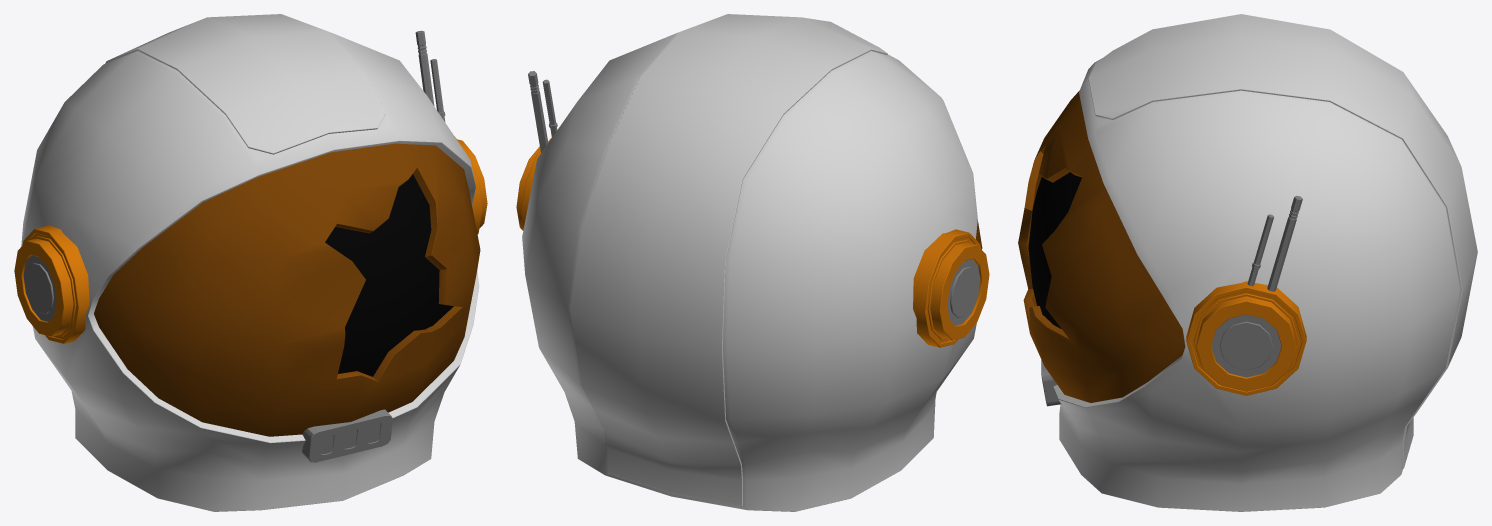
The model's file is Helmet.fbx.
3 renders of one model, left to right at view 1: azimuth 30°, elevation 25°; view 2: azimuth 150°, elevation 25°; view 3: azimuth 270°, elevation 25°, orthographic.
Parts seen in each view (by area): view 1: Helmet Damaged; view 2: Helmet Damaged; view 3: Helmet Damaged.
Part boxes in pixels (<box>): Helmet Damaged: <box>14,14,487,511</box>; Helmet Damaged: <box>516,14,989,511</box>; Helmet Damaged: <box>1018,14,1477,511</box>.
Bounding box in the file's own units: 1.77 × 1.64 × 1.61.
